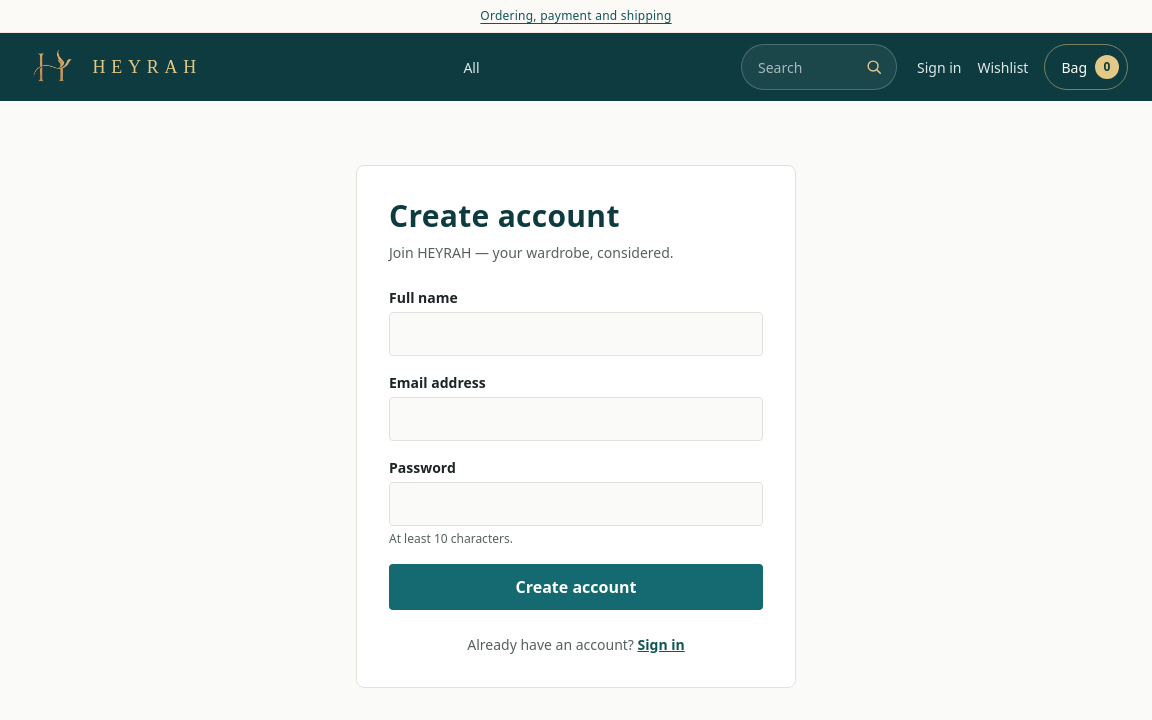
Test: RegisterPage › surfaces the duplicate-email error
Type "Amira" into the field labelled "Full name".
click(576, 334); type("Amira")  # box x1=389 y1=312 x2=763 y2=356
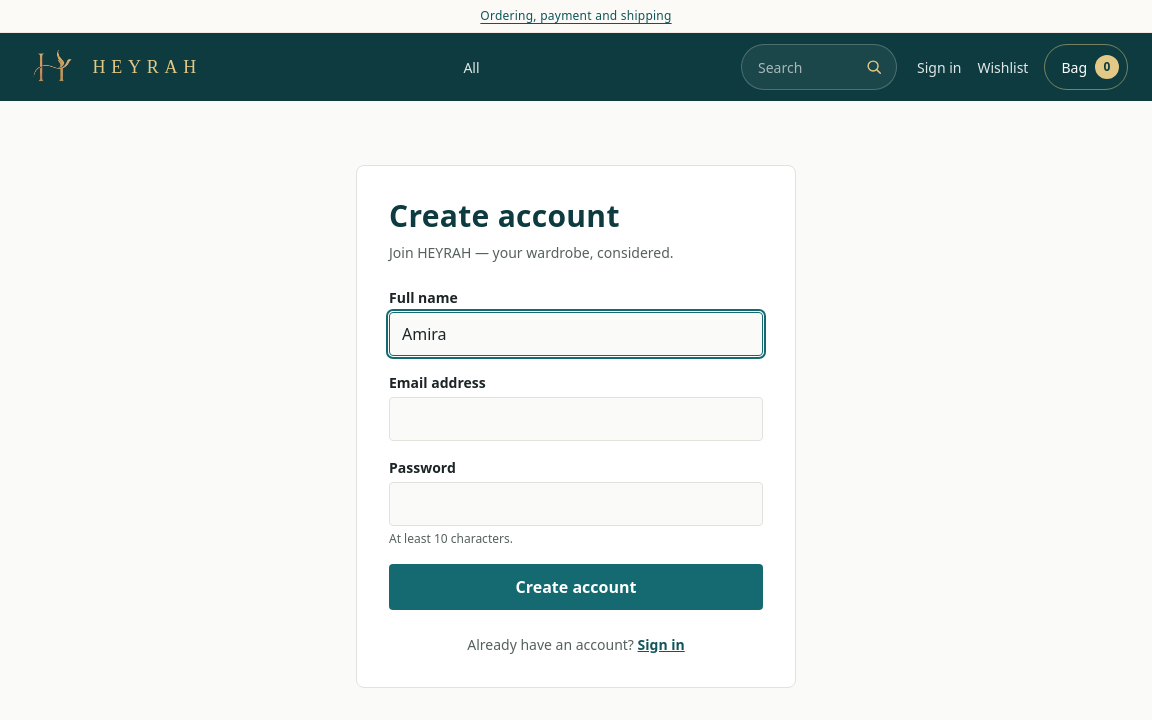
Type "amira@example.com" into the field labelled "Email address".
click(576, 419); type("amira@example.com")  # box x1=389 y1=397 x2=763 y2=441
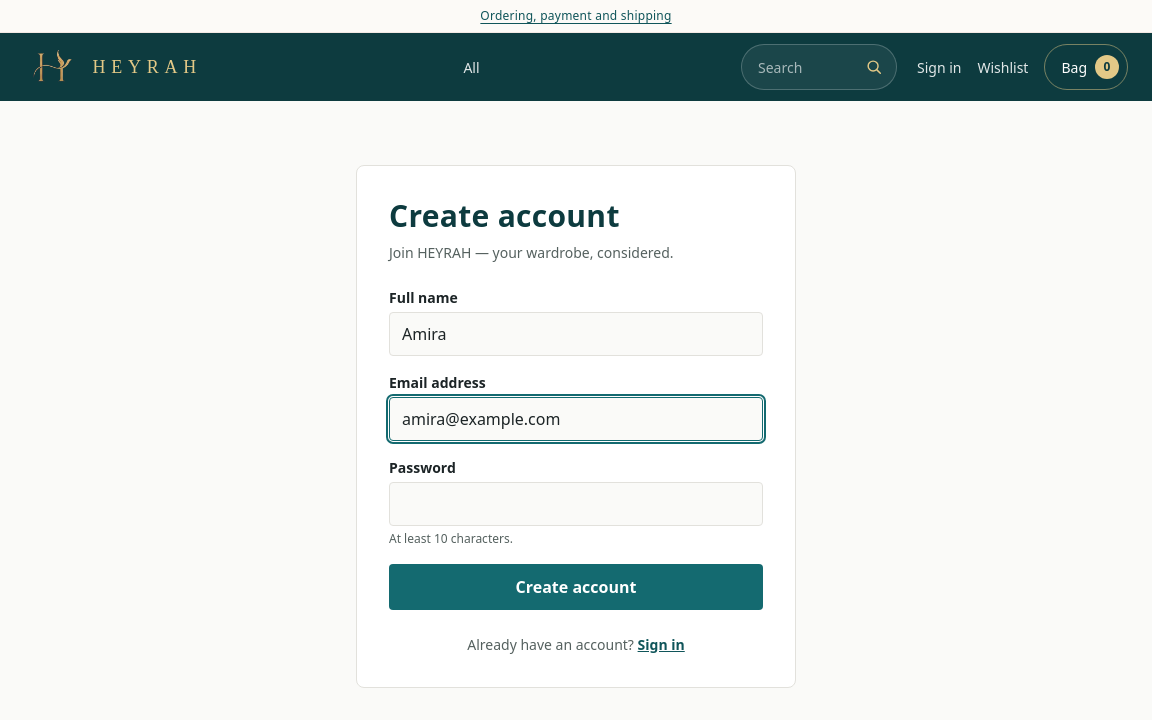
Type "Str0ngPass!x" into the password field labelled "Password".
click(576, 504); type("Str0ngPass!x")  # box x1=389 y1=482 x2=763 y2=526
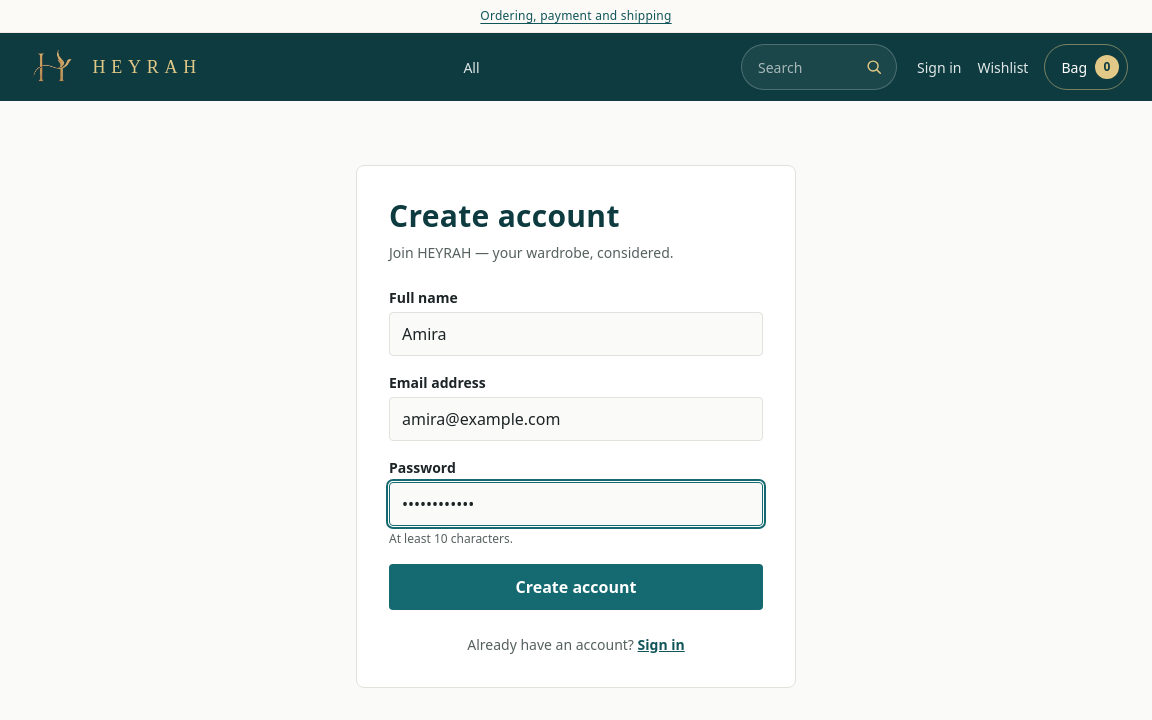
Click the button "Create account".
click(576, 587)  # box x1=389 y1=564 x2=763 y2=610
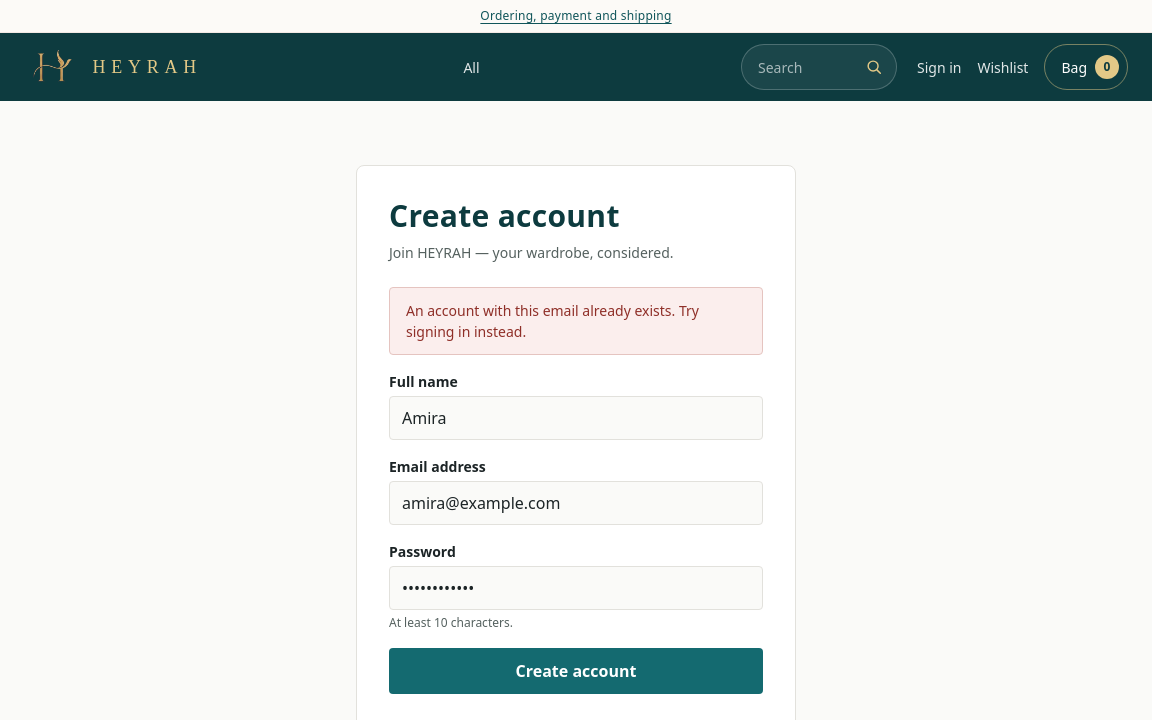
Check: the message shows "already exists", box x1=406 y1=301 x2=699 y2=341
